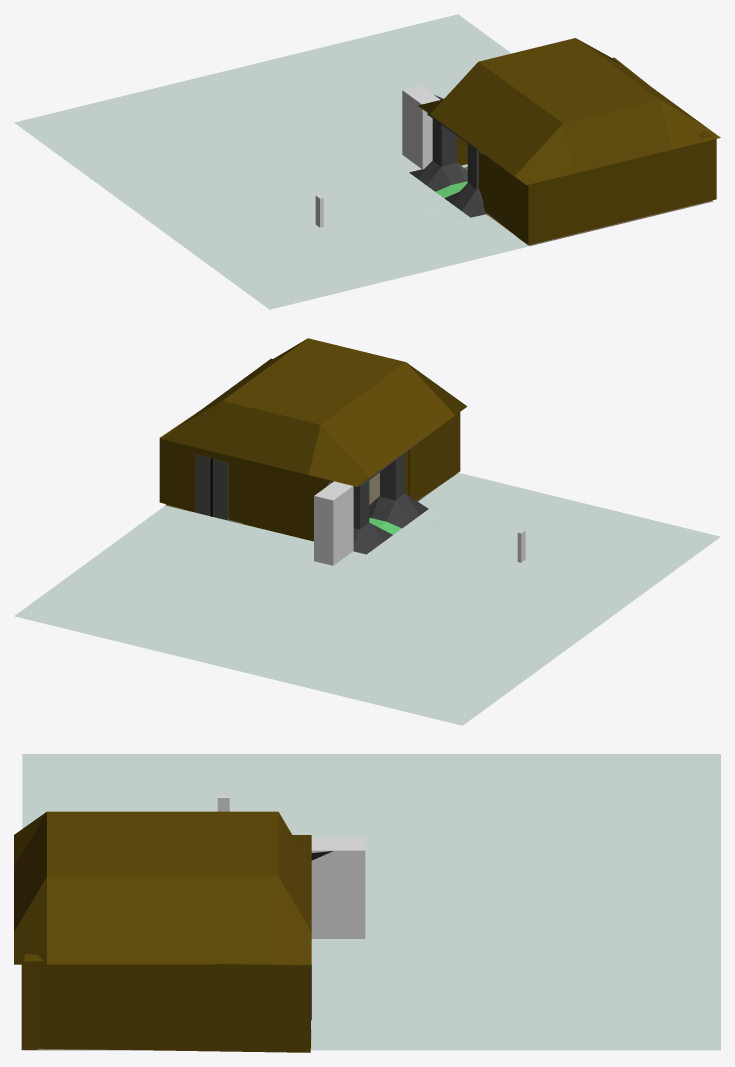
File: BUNKERNAMINIMALKAHfbx.fbx
The picture shows the model from 3 angles, top to bottom: view 1: azimuth 30°, elevation 25°; view 2: azimuth 150°, elevation 25°; view 3: azimuth 270°, elevation 25°; orthographic projection. The views are drawn at different scales.
Parts seen in each view (by area): view 1: Grid, Grid.002, Cube, Cube.002, Cube.008, Cube.005, Cube.004; view 2: Grid, Grid.002, Cube.003, Cube.008, Cube.002, Cube.011, Cube.009, Cube.004, Cube.001, Cube.005; view 3: Grid, Grid.002, Cube.001, Cube.008, Cube.
Part boxes in pixels (x1,y1,x2,y2): Grid: [14, 14, 713, 309]; Grid.002: [418, 38, 720, 185]; Cube: [522, 139, 716, 245]; Cube.002: [483, 154, 522, 240]; Cube.008: [402, 85, 440, 169]; Cube.005: [432, 119, 456, 166]; Cube.004: [467, 143, 479, 189]; Grid: [14, 472, 720, 725]; Grid.002: [161, 338, 467, 486]; Cube.003: [229, 455, 333, 541]; Cube.008: [314, 481, 353, 565]; Cube.002: [408, 416, 454, 500]; Cube.011: [195, 454, 228, 520]; Cube.009: [169, 441, 195, 512]; Cube.004: [380, 454, 404, 500]; Cube.001: [159, 411, 198, 504]; Cube.005: [353, 480, 369, 529]; Grid: [22, 754, 720, 1050]; Grid.002: [14, 811, 311, 964]; Cube.001: [24, 954, 310, 1052]; Cube.008: [311, 838, 365, 938]; Cube: [21, 964, 37, 1049].
Size of the model in its own units: 1624 by 464 by 1615.
